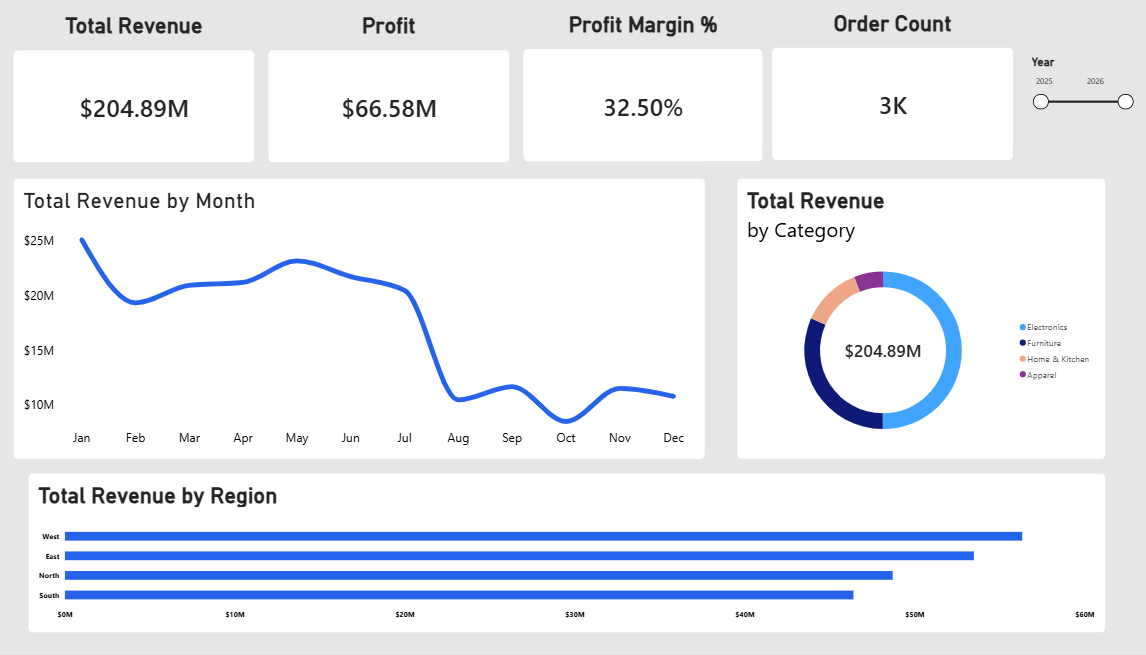

The page's visual inventory and layout, read from the dashboard file:
{"tool":"powerbi","page":{"name":"Page 1","canvas":[1920,1080],"ordinal":0},"visuals":[{"type":"lineChart","title":"Total Revenue by Month","fields":{"Category":["DateTable.MonthName"],"Y":["sales_data.Total Revenue"]},"box":[32.9,296.4,1140.3,463.1],"z":1000},{"type":"cardVisual","title":"Total Revenue","fields":{"Data":["sales_data.Total Revenue"]},"box":[33.2,25.5,398.3,247.7],"z":3500},{"type":"cardVisual","title":"Order Count","fields":{"Data":["sales_data.Oder Count"]},"box":[1282.3,20.6,398.3,247.7],"z":4000},{"type":"cardVisual","title":"Profit Margin %","fields":{"Data":["sales_data.Profit Margin%"]},"box":[872.7,22.6,395.7,247.7],"z":4500},{"type":"cardVisual","title":"Profit","fields":{"Data":["sales_data.Profit"]},"box":[452.8,24.7,398.3,247.7],"z":5000},{"type":"donutChart","fields":{"Category":["sales_data.Category"],"Y":["sales_data.Total Revenue"]},"box":[1224.7,296.4,607.2,463.1],"z":5001},{"type":"clusteredBarChart","fields":{"Category":["sales_data.Region"],"Y":["sales_data.Total Revenue"]},"box":[57.6,782.2,1774.3,263.5],"z":5002},{"type":"slicer","fields":{"Values":["DateTable.year"]},"box":[1702.2,94.7,179.1,150.3],"z":5003}]}

Visuals, with their boxes in screenshot pixels (x1, y1, x2, y2), scaled from the page's 1920x1080 canvas onto the 1146x655 screenshot:
"Total Revenue by Month" lineChart: pyautogui.locateOnScreen(20, 180, 700, 461)
"Total Revenue" cardVisual: pyautogui.locateOnScreen(20, 15, 258, 166)
"Order Count" cardVisual: pyautogui.locateOnScreen(765, 12, 1003, 163)
"Profit Margin %" cardVisual: pyautogui.locateOnScreen(521, 14, 757, 164)
"Profit" cardVisual: pyautogui.locateOnScreen(270, 15, 508, 165)
donutChart - sales_data.Category x sales_data.Total Revenue: pyautogui.locateOnScreen(731, 180, 1093, 461)
clusteredBarChart - sales_data.Region x sales_data.Total Revenue: pyautogui.locateOnScreen(34, 474, 1093, 634)
slicer - DateTable.year: pyautogui.locateOnScreen(1016, 57, 1123, 149)
